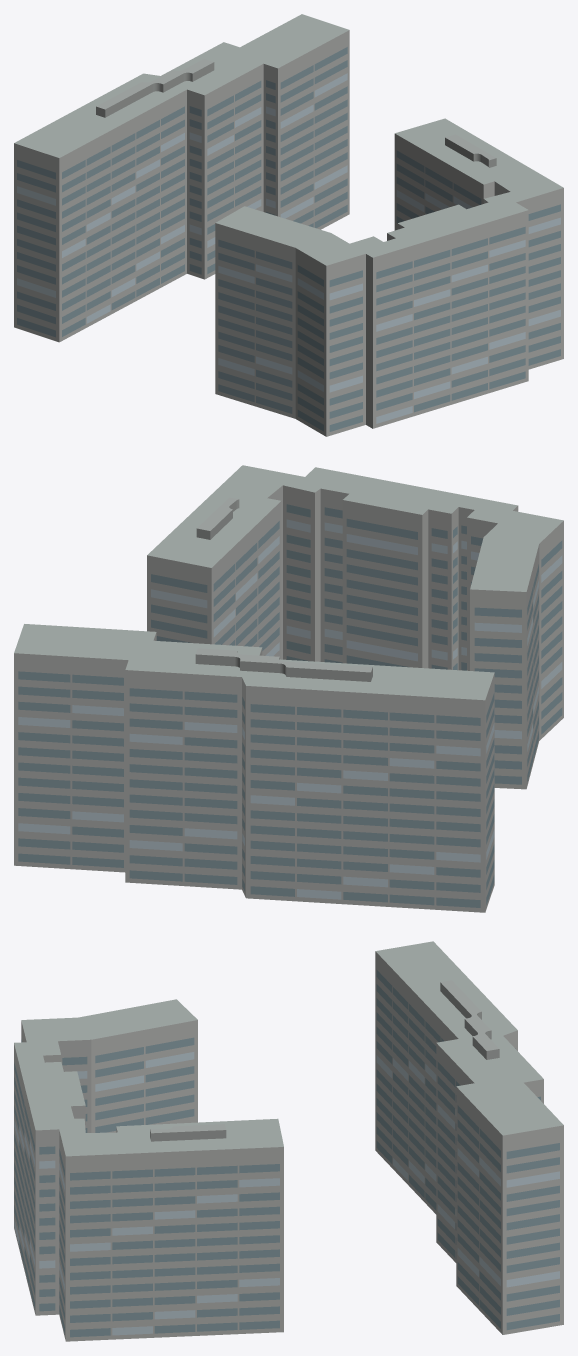
File: apt-a10027571.glb
3 views of the same model, one above another, from view 1: azimuth 30°, elevation 25°; view 2: azimuth 150°, elevation 25°; view 3: azimuth 270°, elevation 25° (orthographic). The views are drawn at different scales.
Parts seen in each view (by area): view 1: apt-a10027571; view 2: apt-a10027571; view 3: apt-a10027571.
Boxes of the visible parts, <box> form: apt-a10027571: <box>14,14,563,436</box>; apt-a10027571: <box>14,465,563,912</box>; apt-a10027571: <box>14,941,563,1341</box>.
Bounding box in the file's own units: 92.2 × 44.62 × 107.
